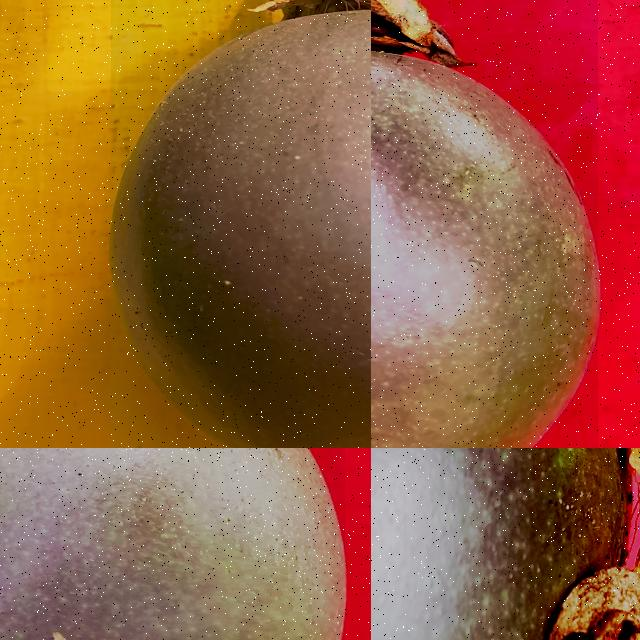Estado-2: (371, 0, 598, 448)
Estado-3: (371, 448, 640, 640)
